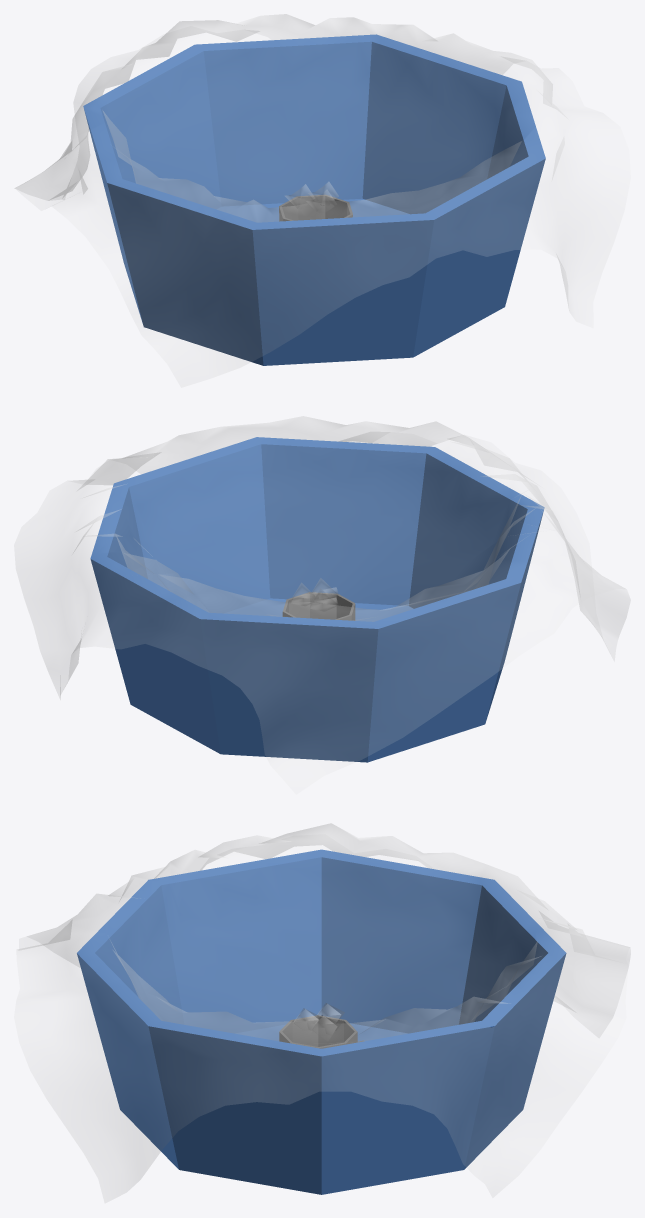
File: ENVI_LV2-3_Solar_Destilasi.fbx
3 views of the same model, one above another, from view 1: azimuth 30°, elevation 25°; view 2: azimuth 150°, elevation 25°; view 3: azimuth 270°, elevation 25° (orthographic). The views are drawn at different scales.
Visible parts, largest first — view 1: Solar Destilasi; view 2: Solar Destilasi; view 3: Solar Destilasi.
Boxes of the visible parts, bbox=[...] form: Solar Destilasi: bbox=[15, 14, 630, 386]; Solar Destilasi: bbox=[14, 416, 629, 793]; Solar Destilasi: bbox=[14, 823, 630, 1202].
Bounding box in the file's own units: 94.61 × 32.22 × 95.01.
